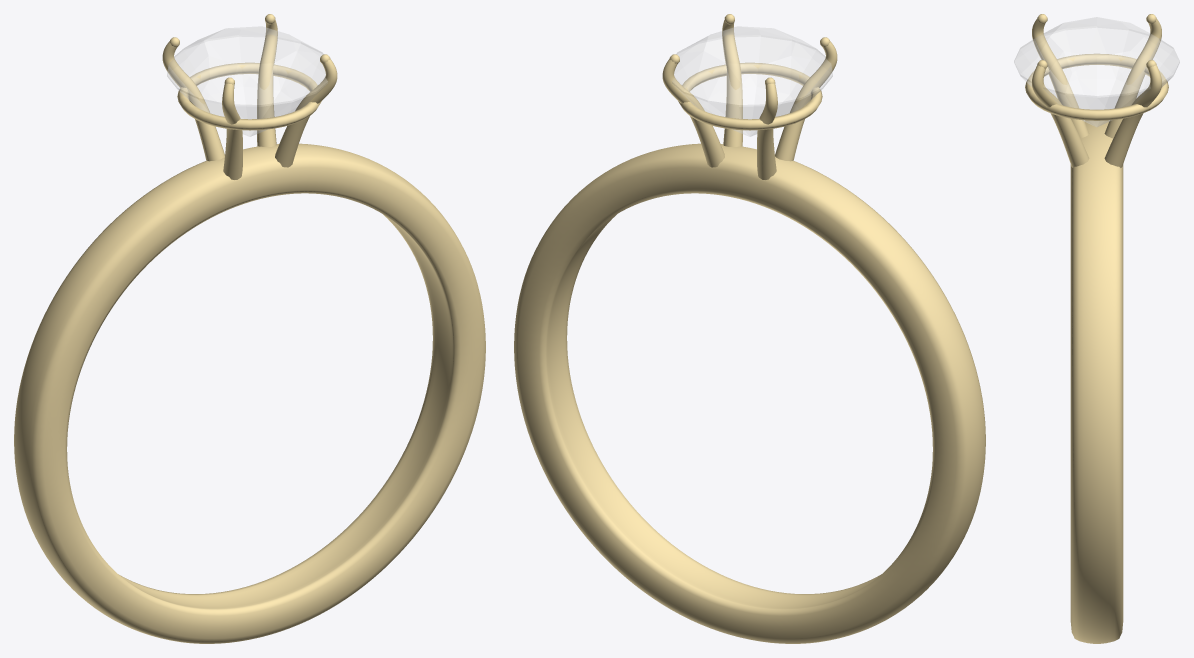
Rendered from ring-low.glb.
3 renders of one model, left to right at view 1: azimuth 30°, elevation 25°; view 2: azimuth 150°, elevation 25°; view 3: azimuth 270°, elevation 25°, orthographic.
Parts seen in each view (by area): view 1: band, stone, head; view 2: band, stone, head; view 3: band, stone, head.
Part boxes in pixels (x1,y1,x2,y2): band: [14, 143, 485, 643]; stone: [167, 26, 327, 136]; head: [162, 14, 337, 179]; band: [514, 143, 985, 643]; stone: [672, 26, 832, 136]; head: [662, 14, 837, 179]; band: [1070, 120, 1123, 643]; stone: [1014, 17, 1179, 126]; head: [1025, 14, 1168, 167].
Bounding box in the file's own units: 0.0206 × 0.0252 × 0.0065.
